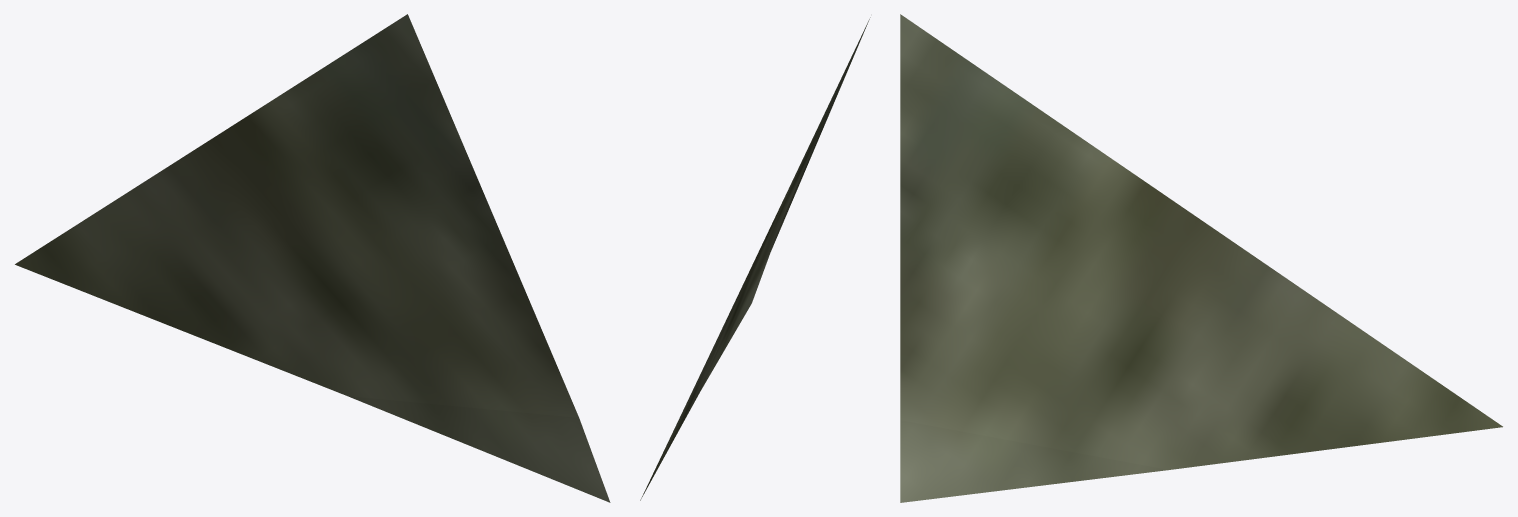
3 views of the same model, side by side, from view 1: azimuth 30°, elevation 25°; view 2: azimuth 150°, elevation 25°; view 3: azimuth 270°, elevation 25° (orthographic). The views are drawn at different scales.
Size of the model in its own units: 0.0929 by 0.2358 by 0.3122.
Materials: 1 (1 with a texture image).
